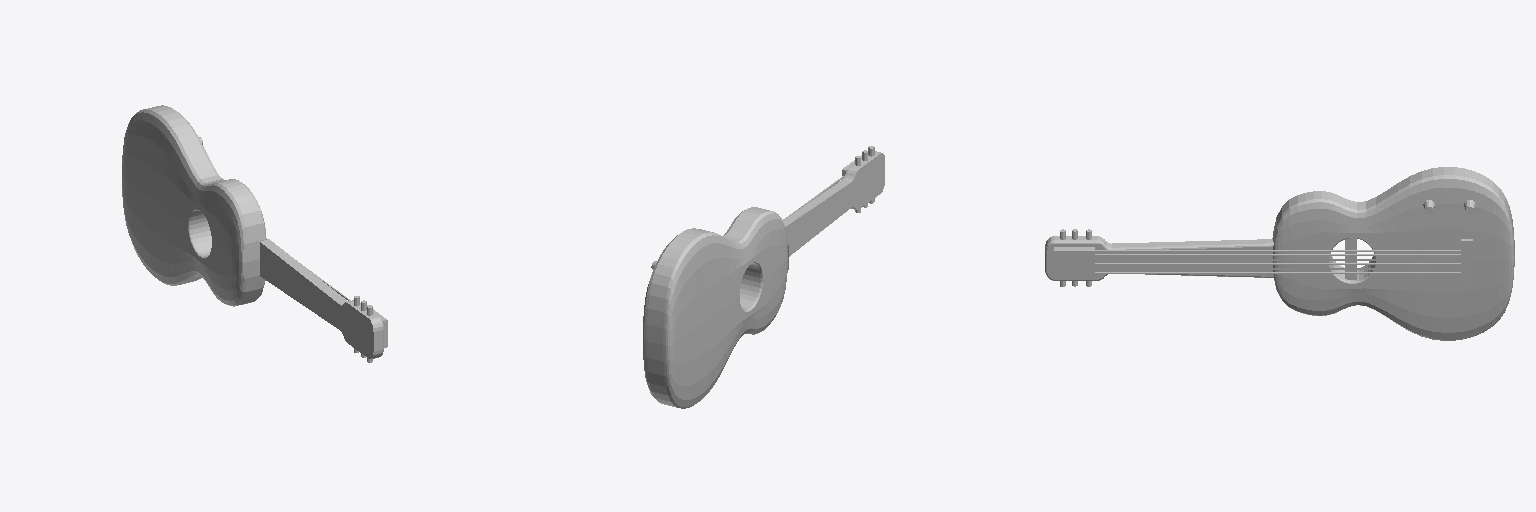
File: acus.obj
3 renders of one model, left to right at view 1: azimuth 30°, elevation 25°; view 2: azimuth 150°, elevation 25°; view 3: azimuth 270°, elevation 25°, orthographic.
Visible parts, largest first — view 1: mesh01; view 2: mesh01; view 3: mesh01.
Boxes of the visible parts, x1,y1,x2,y2 form: mesh01: [122, 105, 387, 362]; mesh01: [643, 146, 884, 408]; mesh01: [1045, 167, 1514, 340].
Bounding box in the file's own units: 1.13 × 4.53 × 11.61.